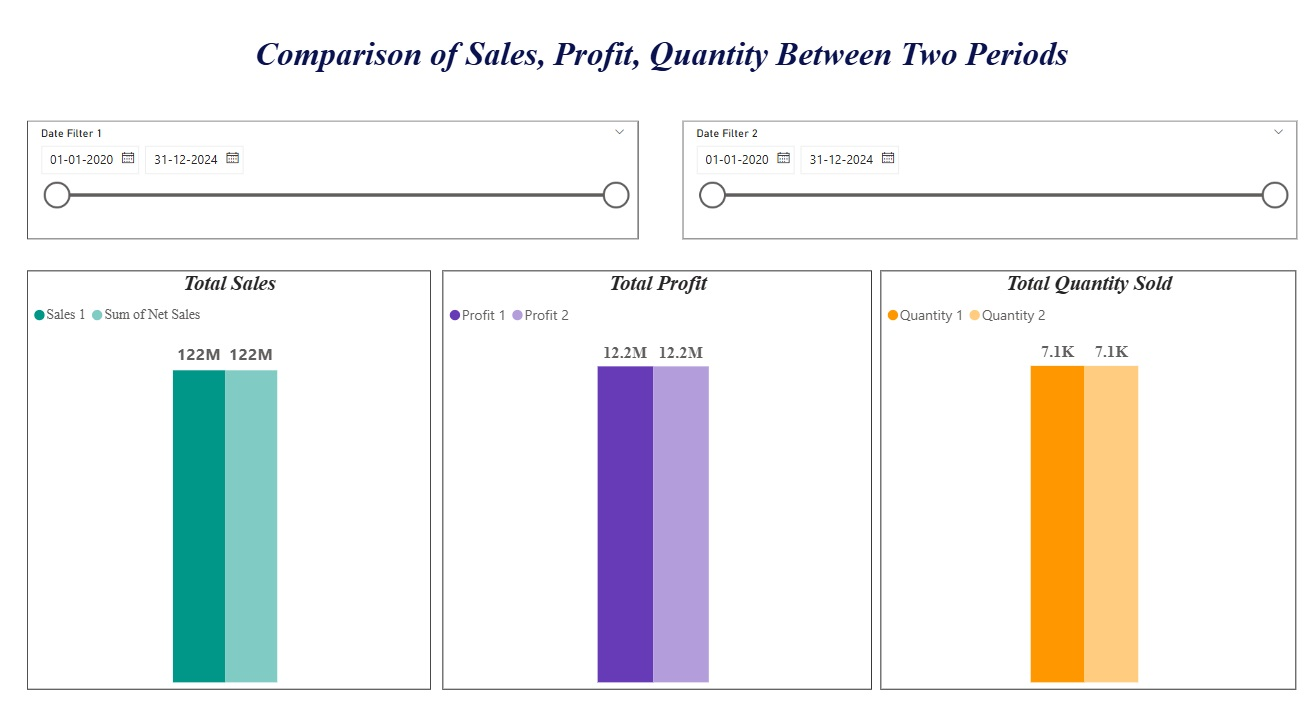

The page's visual inventory and layout, read from the dashboard file:
{"tool":"powerbi","page":{"name":"Comparision Sales /Profit/Quantity","canvas":[1280,720],"ordinal":2},"visuals":[{"type":"slicer","fields":{"Values":["Date Table 1.Date"]},"box":[26.7,123.3,593.3,115],"z":0},{"type":"slicer","fields":{"Values":["Date Table 2.Date"]},"box":[661.7,123.3,596.7,115],"z":1000},{"type":"clusteredColumnChart","title":"Total Sales","fields":{"Y":["Sum(Fact Table.Net Sales   )","Date Table 1.Sum of Net Sales"]},"box":[26.7,270,391.7,406.7],"z":2000},{"type":"clusteredColumnChart","title":"Total Profit","fields":{"Y":["Sum(Fact Table.Profit)","Measures Table.Total Profit"]},"box":[430,270,416.7,406.7],"z":3000},{"type":"clusteredColumnChart","title":"Total Quantity Sold","fields":{"Y":["Sum(Fact Table.Units Sold)","Measures Table.Quantity Sold"]},"box":[855,270,403.3,406.7],"z":4000},{"type":"textbox","box":[26.7,35,1231.7,88.3],"z":5000}]}

Visuals, with their boxes on the page's 1280x720 design canvas (x1, y1, x2, y2). These are canvas units, not pixel positions in the 1309x710 screenshot, which may show the page scaled, cropped or inside an application window:
slicer - Date Table 1.Date: <box>27,123,620,238</box>
slicer - Date Table 2.Date: <box>662,123,1258,238</box>
"Total Sales" clusteredColumnChart: <box>27,270,418,677</box>
"Total Profit" clusteredColumnChart: <box>430,270,847,677</box>
"Total Quantity Sold" clusteredColumnChart: <box>855,270,1258,677</box>
textbox: <box>27,35,1258,123</box>
